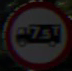Heavy Vehicles: (5, 7, 67, 58)
